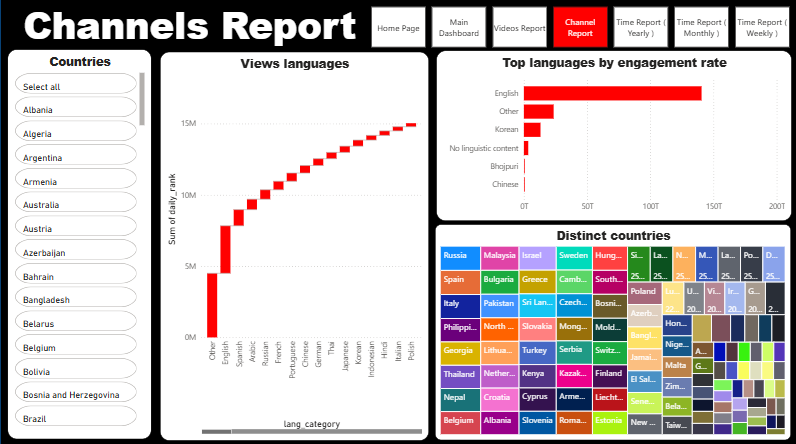

The dashboard page shown, as its layout file describes it:
{"tool":"powerbi","page":{"name":"Channel Report","canvas":[1280,720],"ordinal":4},"visuals":[{"type":"shape","box":[0,0,1280,720],"z":0},{"type":"textbox","title":"Channels Report","box":[32,0,546.7,88.3],"z":1000},{"type":"barChart","title":"Top  languages by engagement rate","fields":{"Category":["Dim_Chanel.lang_category"],"Y":["Sum(Fact_Views.engagement)"]},"box":[697.1,84.3,568.6,272.9],"z":2000},{"type":"waterfallChart","title":"Views languages","fields":{"Y":["Sum(Fact_Views.daily_rank)"],"Category":["Dim_Chanel.lang_category"]},"box":[256.7,85,430,622.7],"z":3000},{"type":"advancedSlicerVisual","title":"Countries","fields":{"Values":["Dim_Chanel.country_name"]},"box":[12.9,82.9,230.3,624.3],"z":4000},{"type":"treemap","title":"Distinct countries","fields":{"Values":["Sum(Fact_Views.view_count)"],"Group":["Dim_Chanel.country_name"]},"box":[696.3,361.4,569.4,345.7],"z":5000},{"type":"pageNavigator","box":[593.3,13.3,673.3,65],"z":7000}]}

Visuals, with their boxes in screenshot pixels (x1, y1, x2, y2), scaled from the page's 1280x720 canvas onto the 796x444 screenshot:
shape: box(0, 0, 795, 443)
"Channels Report" textbox: box(20, 0, 360, 54)
"Top  languages by engagement rate" barChart: box(434, 52, 787, 220)
"Views languages" waterfallChart: box(160, 52, 427, 436)
"Countries" advancedSlicerVisual: box(8, 51, 151, 436)
"Distinct countries" treemap: box(433, 223, 787, 436)
pageNavigator: box(369, 8, 788, 48)
